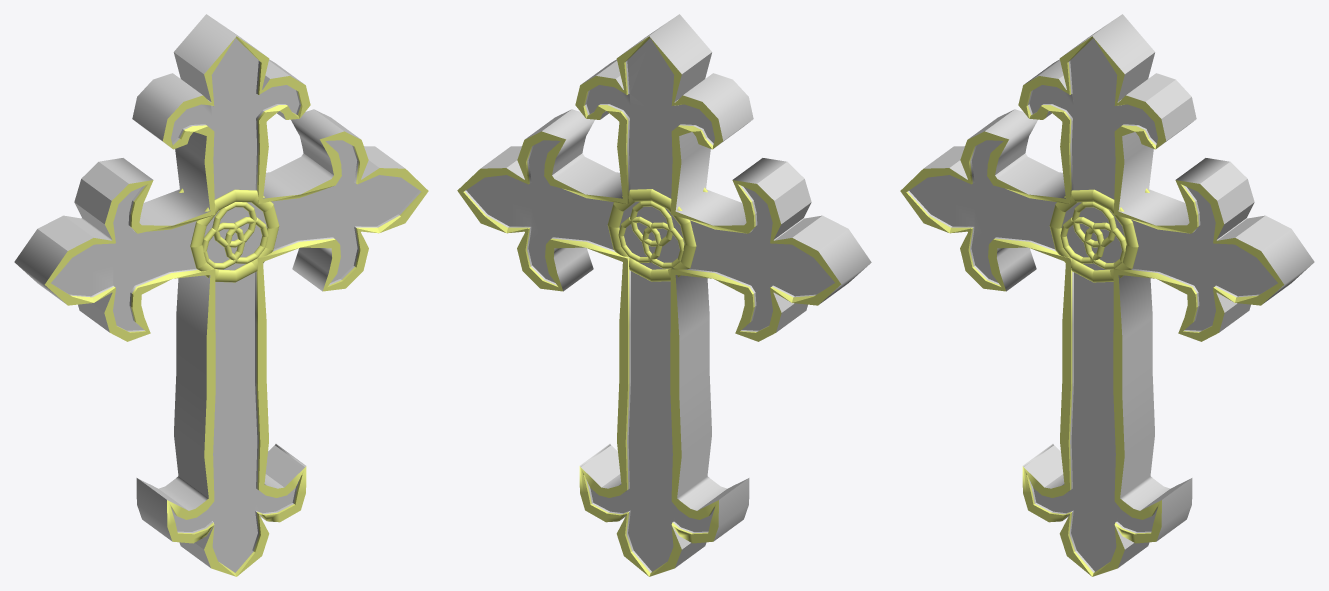
The model's file is crucifix.fbx.
3 views of the same model, side by side, from view 1: azimuth 30°, elevation 25°; view 2: azimuth 150°, elevation 25°; view 3: azimuth 330°, elevation 25° (orthographic).
Parts seen in each view (by area): view 1: pCube2; view 2: pCube2; view 3: pCube2.
Part boxes in pixels (left/top/right/bottom): pCube2: left=14, top=14, right=428, bottom=576; pCube2: left=457, top=14, right=871, bottom=576; pCube2: left=900, top=14, right=1314, bottom=576.
Bounding box in the file's own units: 46.83 × 63 × 6.43.
